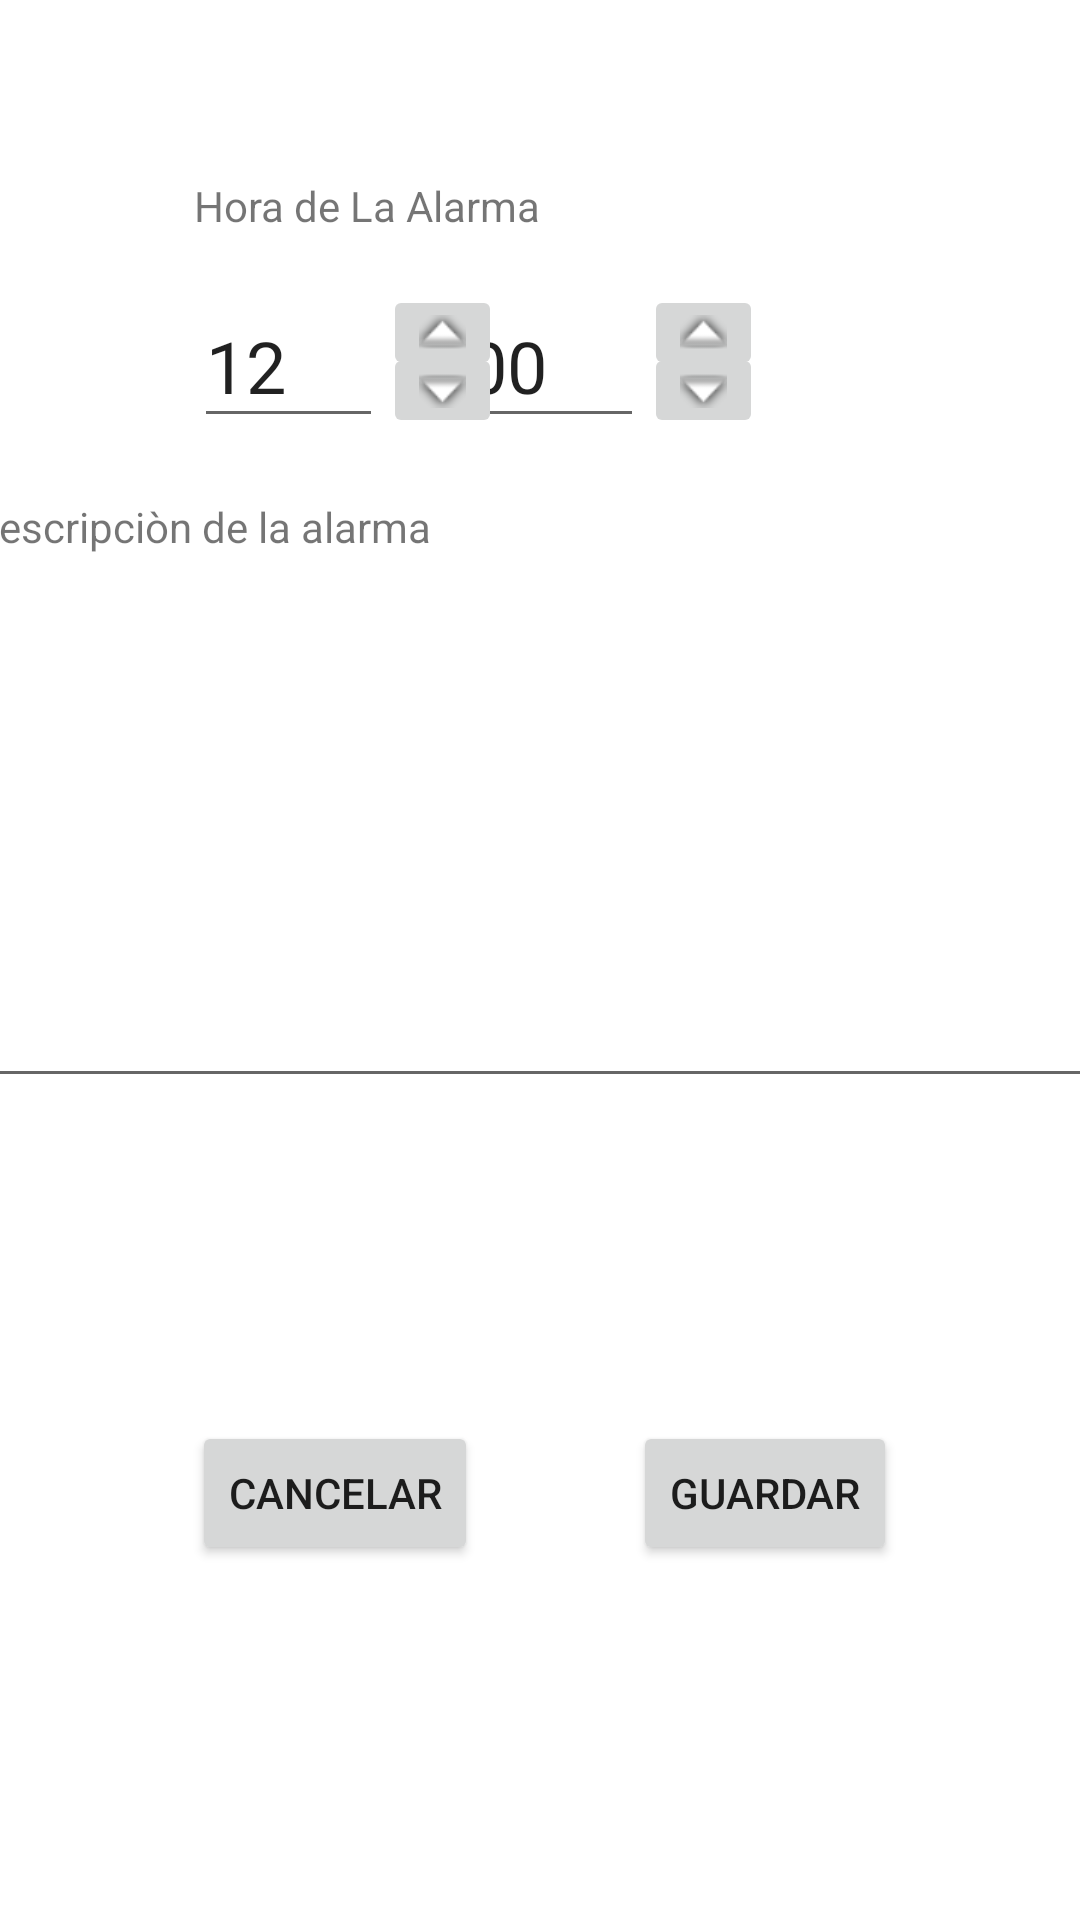

Point at icon controls on the screen. Image size 1080px x 1920px, points as (x,y).
arrow down float: (448,381), (703,381)
arrow up float: (448,341), (703,341)
